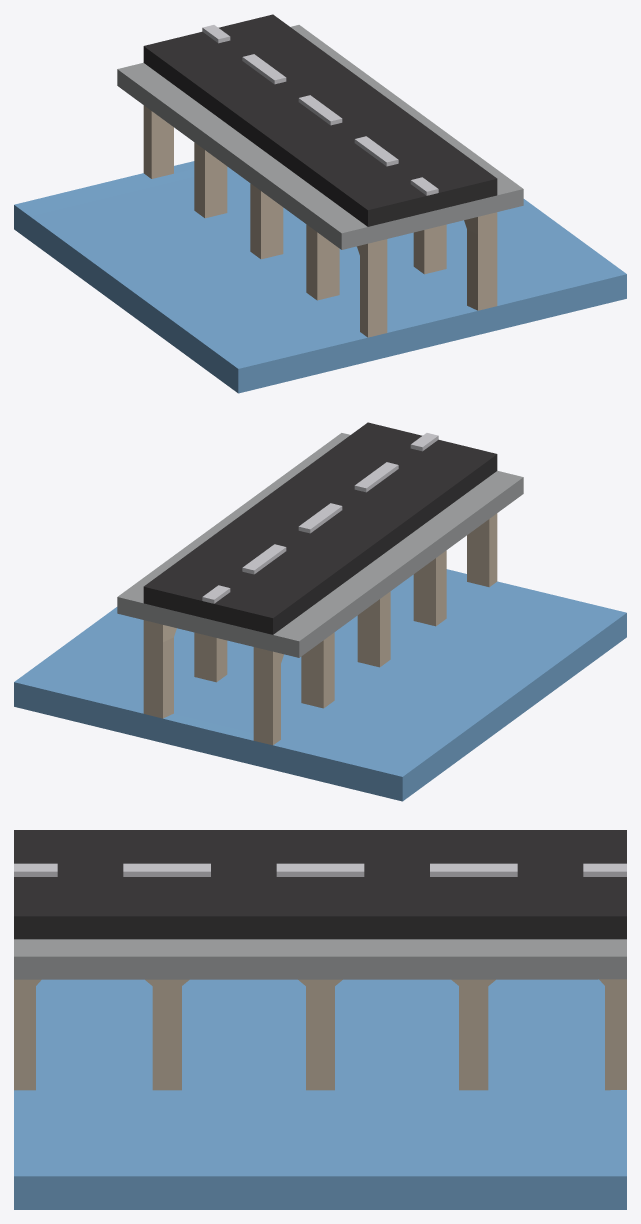
File: quaternius-street-street-bridge-water.glb
The picture shows the model from 3 angles, top to bottom: view 1: azimuth 30°, elevation 25°; view 2: azimuth 150°, elevation 25°; view 3: azimuth 270°, elevation 25°; orthographic projection. The views are drawn at different scales.
Visible parts, largest first — view 1: Street_Bridge_Water; view 2: Street_Bridge_Water; view 3: Street_Bridge_Water.
Boxes of the visible parts, bbox=[...] form: Street_Bridge_Water: bbox=[14, 14, 626, 393]; Street_Bridge_Water: bbox=[14, 422, 626, 801]; Street_Bridge_Water: bbox=[14, 830, 626, 1209].
Size of the model in its own units: 2 by 0.766 by 2.
1 material, 1 textured.
